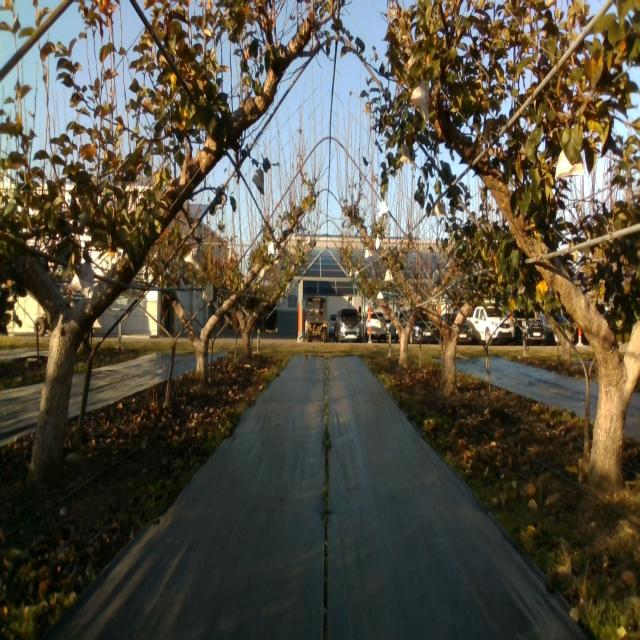pearbags: (67, 257, 94, 299), (554, 145, 584, 179), (411, 81, 430, 124), (185, 245, 201, 269), (252, 166, 264, 196), (432, 197, 446, 216)
